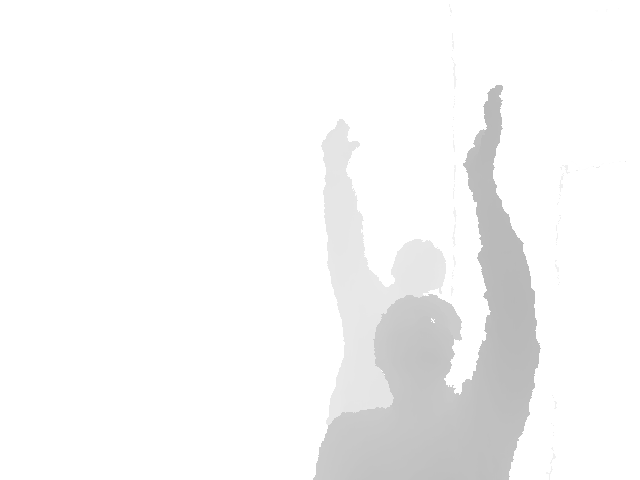hand: (463, 85, 503, 170), (320, 118, 360, 171)
head: (372, 292, 462, 405), (390, 239, 447, 302)
person: (310, 85, 542, 480), (320, 118, 447, 431)
